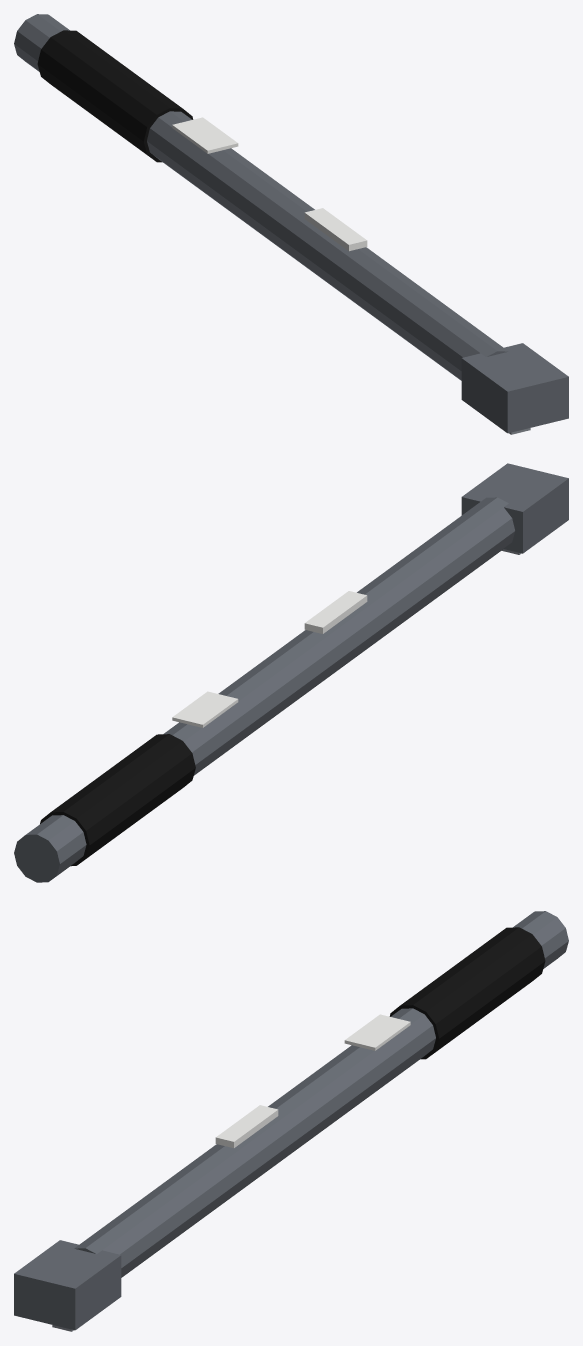
File: TL_TorqueWrench_L.fbx
3 views of the same model, one above another, from view 1: azimuth 30°, elevation 25°; view 2: azimuth 150°, elevation 25°; view 3: azimuth 330°, elevation 25° (orthographic).
Visible parts, largest first — view 1: TL_TorqueWrench_L, Grip, FX_CalLabel, ScaleWindow; view 2: TL_TorqueWrench_L, Grip, FX_CalLabel, ScaleWindow; view 3: TL_TorqueWrench_L, Grip, FX_CalLabel, ScaleWindow.
Boxes of the visible parts, x1,y1,x2,y2 form: TL_TorqueWrench_L: [14, 14, 568, 433]; Grip: [37, 30, 193, 162]; FX_CalLabel: [172, 117, 238, 153]; ScaleWindow: [304, 208, 367, 251]; TL_TorqueWrench_L: [14, 463, 568, 882]; Grip: [40, 734, 195, 866]; FX_CalLabel: [172, 691, 238, 727]; ScaleWindow: [304, 591, 367, 633]; TL_TorqueWrench_L: [14, 911, 568, 1330]; Grip: [389, 927, 545, 1059]; FX_CalLabel: [344, 1014, 410, 1050]; ScaleWindow: [215, 1105, 278, 1148].
Size of the model in its own units: 0.04 by 0.044 by 0.566.
